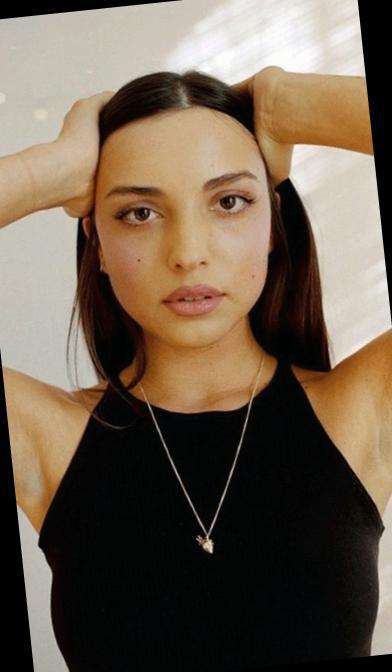Sober: (108, 135, 266, 332)
